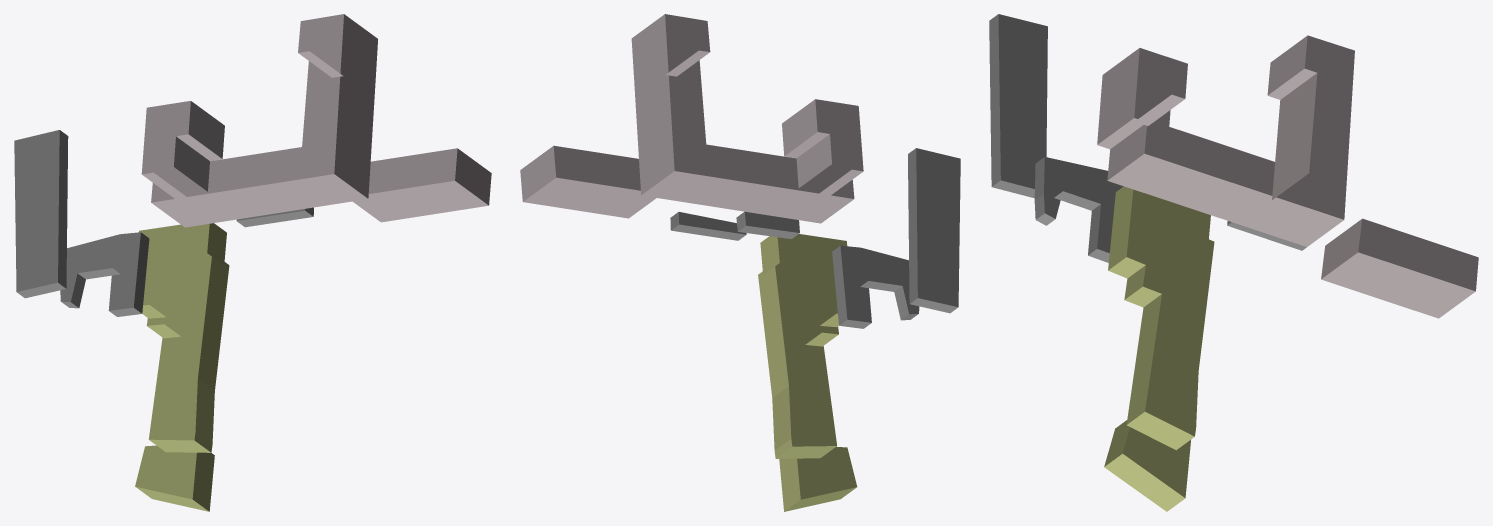
The picture shows the model from 3 angles, left to right: view 1: azimuth 30°, elevation 25°; view 2: azimuth 150°, elevation 25°; view 3: azimuth 330°, elevation 25°; orthographic projection. The views are drawn at different scales.
Visible parts, largest first — view 1: 0_1_0_0_2_2_1_3; view 2: 0_1_0_0_2_2_1_3; view 3: 0_1_0_0_2_2_1_3.
Part boxes in pixels (x1,y1,x2,y2): 0_1_0_0_2_2_1_3: (14, 14, 491, 511); 0_1_0_0_2_2_1_3: (520, 14, 960, 511); 0_1_0_0_2_2_1_3: (989, 14, 1478, 511).
Size of the model in its own units: 89.82 by 87.42 by 12.5.
